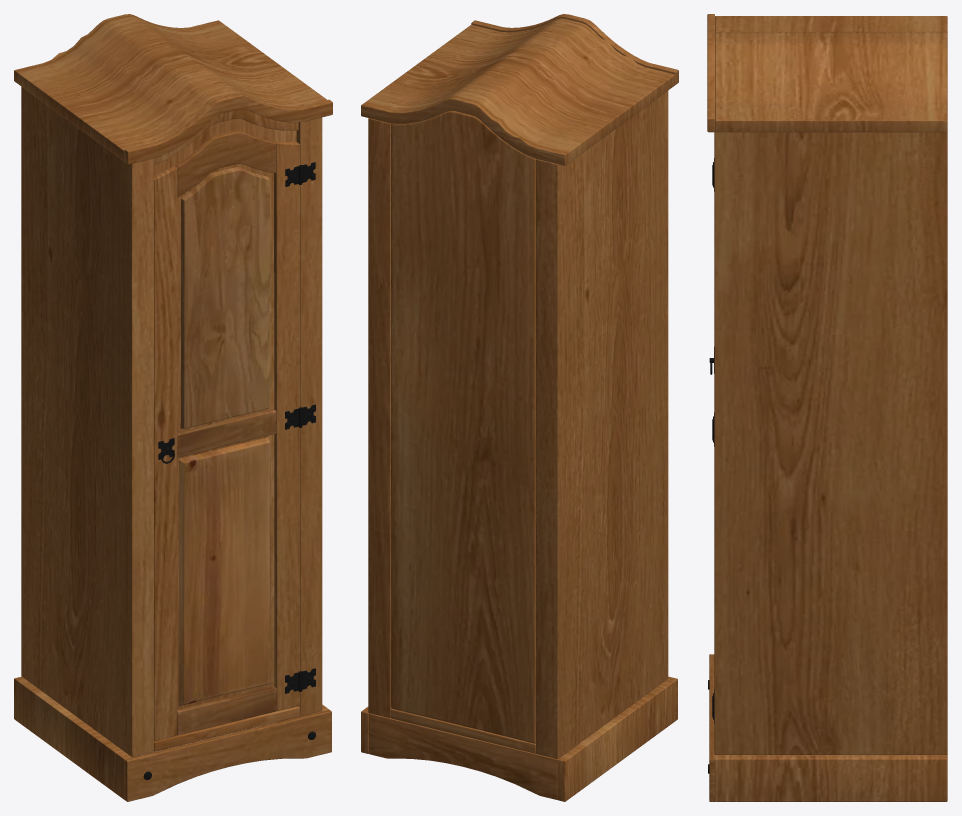
File: abo-B07B3X7977.glb
The picture shows the model from 3 angles, left to right: view 1: azimuth 30°, elevation 25°; view 2: azimuth 150°, elevation 25°; view 3: azimuth 270°, elevation 25°; orthographic projection. The views are drawn at different scales.
Size of the model in its own units: 0.59 by 1.87 by 0.57.
1 material, 1 textured.
